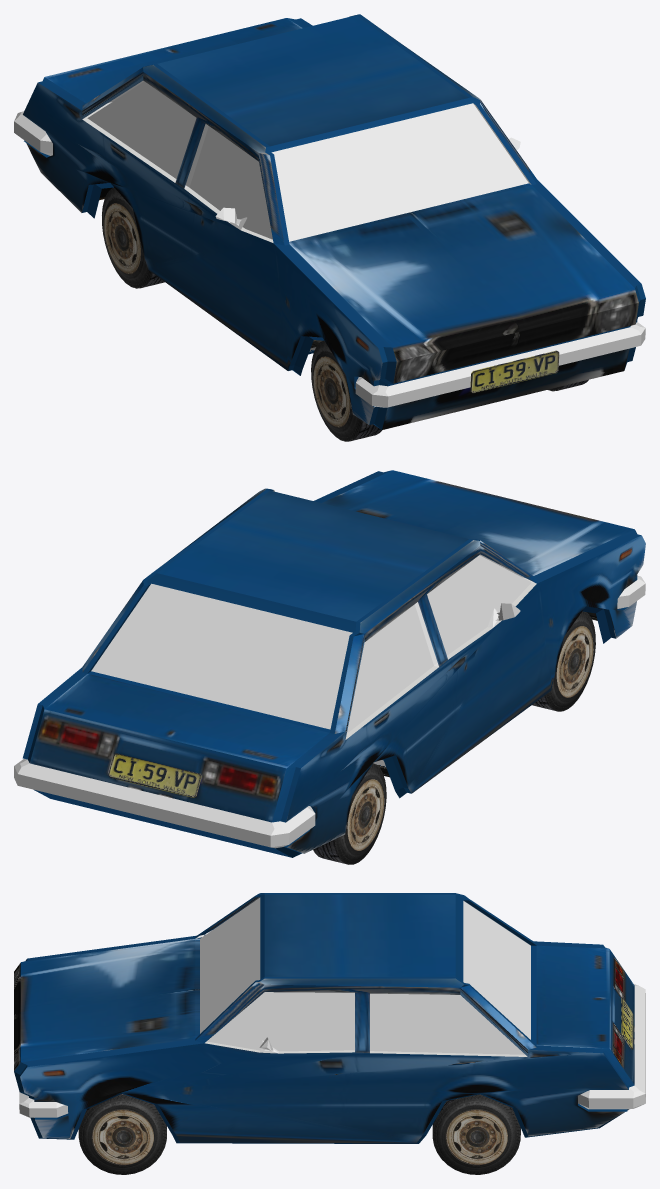
File: corolla.fbx
The picture shows the model from 3 angles, top to bottom: view 1: azimuth 30°, elevation 25°; view 2: azimuth 150°, elevation 25°; view 3: azimuth 270°, elevation 25°; orthographic projection. The views are drawn at different scales.
Parts seen in each view (by area): view 1: Chassis, Windows, Bumper, Wheel1, Wheel3; view 2: Chassis, Windows, Bumper, Wheel3, Wheel1; view 3: Chassis, Windows, Wheel2, Wheel, Bumper.
Part boxes in pixels (box(x1,y1,x2,y2)): Chassis: box(23, 14, 645, 429); Windows: box(87, 80, 528, 241); Bumper: box(14, 111, 645, 407); Wheel1: box(311, 340, 382, 441); Wheel3: box(102, 187, 164, 288); Chassis: box(22, 470, 645, 857); Windows: box(91, 554, 531, 733); Bumper: box(14, 575, 645, 848); Wheel3: box(313, 763, 386, 864); Wheel1: box(532, 611, 595, 711); Chassis: box(14, 893, 634, 1143); Windows: box(200, 897, 530, 1054); Wheel2: box(432, 1094, 520, 1174); Wheel: box(78, 1094, 166, 1174); Bumper: box(19, 984, 645, 1117).
Size of the model in its own units: 217 by 154 by 461.
Materials: 8 (6 with a texture image).
